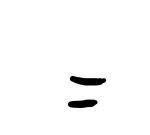eqv: (68, 76, 106, 108)
